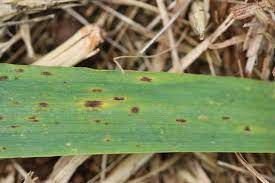Bercak Coklat: (236, 121, 260, 137), (80, 98, 105, 113), (172, 115, 193, 130), (138, 74, 156, 87), (128, 102, 143, 117), (109, 93, 130, 103), (35, 99, 54, 110), (37, 69, 56, 78)
